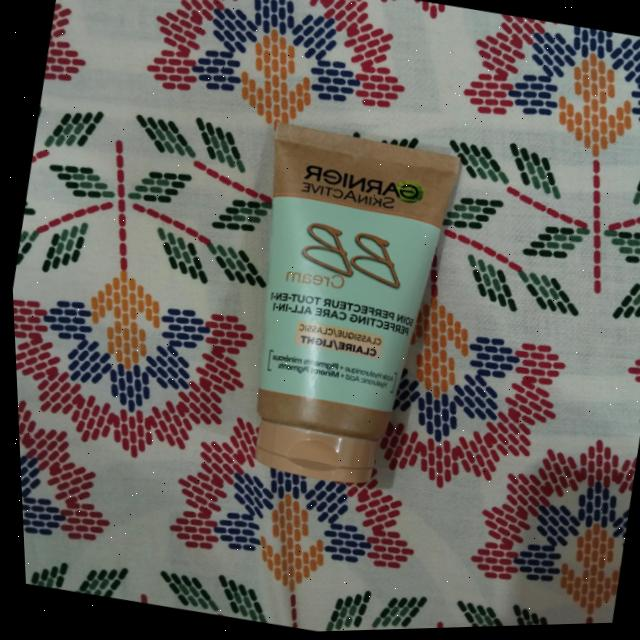bb cream: (177, 83, 517, 539)
